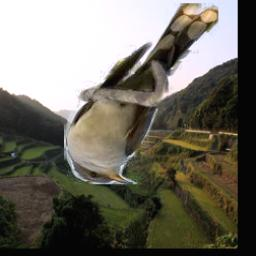Cuckoo: (64, 4, 218, 185)
